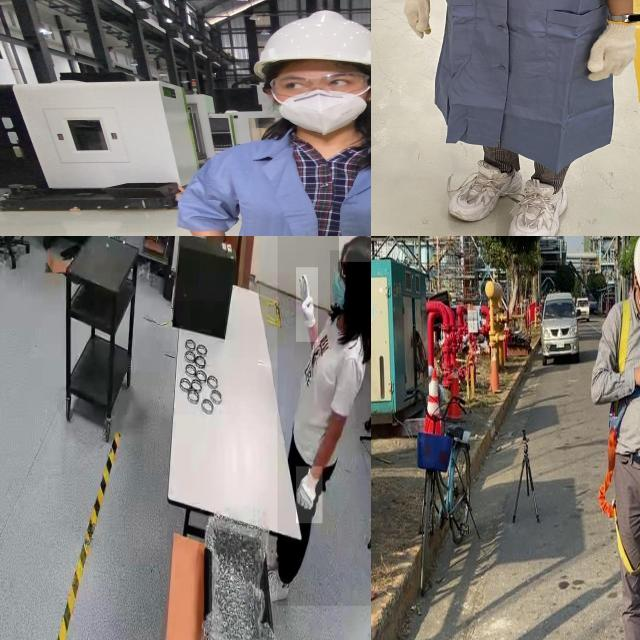Harness: (598, 388, 640, 518)
face_mask: (269, 71, 369, 133), (330, 250, 352, 312)
glasses: (259, 70, 371, 98)
hand_glove: (581, 22, 640, 85), (394, 0, 439, 42), (296, 267, 318, 342), (296, 466, 323, 524)
head_helmet: (242, 8, 371, 71)
head_nohelmet: (338, 236, 371, 262)
person: (396, 0, 640, 236), (168, 4, 371, 236), (277, 236, 371, 607)
shoes: (485, 164, 575, 236), (442, 155, 529, 229)
